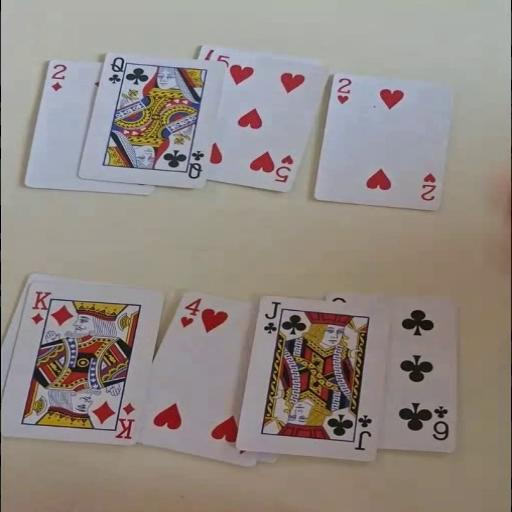2: (418, 170, 438, 202), (48, 62, 67, 92), (334, 76, 352, 105)
4: (178, 296, 204, 329)
5: (272, 153, 296, 183)
6: (430, 404, 450, 442)
J: (352, 414, 374, 451), (260, 300, 281, 334)
K: (112, 400, 136, 439), (28, 289, 53, 326)
Q: (186, 149, 206, 180), (105, 55, 125, 84)
